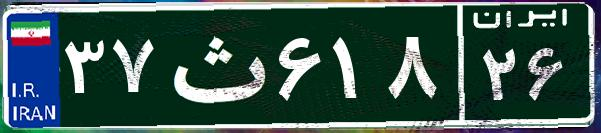1: (330, 28, 385, 110)
2: (475, 38, 525, 113)
3: (57, 26, 110, 107)
6: (273, 28, 330, 110), (525, 38, 570, 115)
7: (110, 28, 158, 105)
8: (385, 28, 445, 110)
ث: (158, 15, 273, 115)
